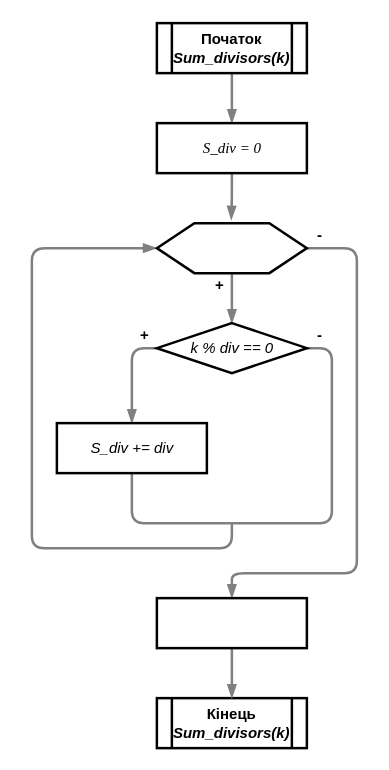
Some shapes in this 389 by 770 pixel diagram are drawn without their labels. Each missing label, with the centre of its shape:
"div = 1, k / 2" belongs at point (231, 247).
"Повернути S_div" belongs at point (231, 622).
